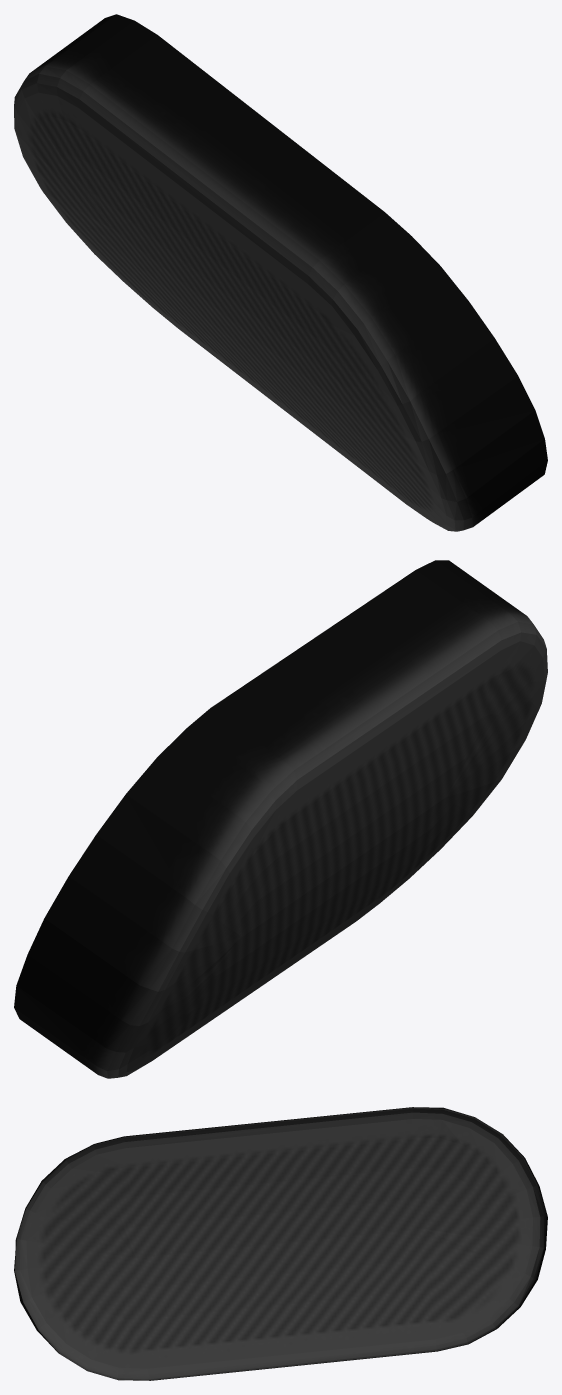
Rendered from l_grip0.obj.
3 renders of one model, top to bottom at view 1: azimuth 30°, elevation 25°; view 2: azimuth 150°, elevation 25°; view 3: azimuth 270°, elevation 25°, orthographic. The views are drawn at different scales.
Bounding box in the file's own units: 0.0101 × 0.0151 × 0.0296.
Materials: 1 (1 with a texture image).
